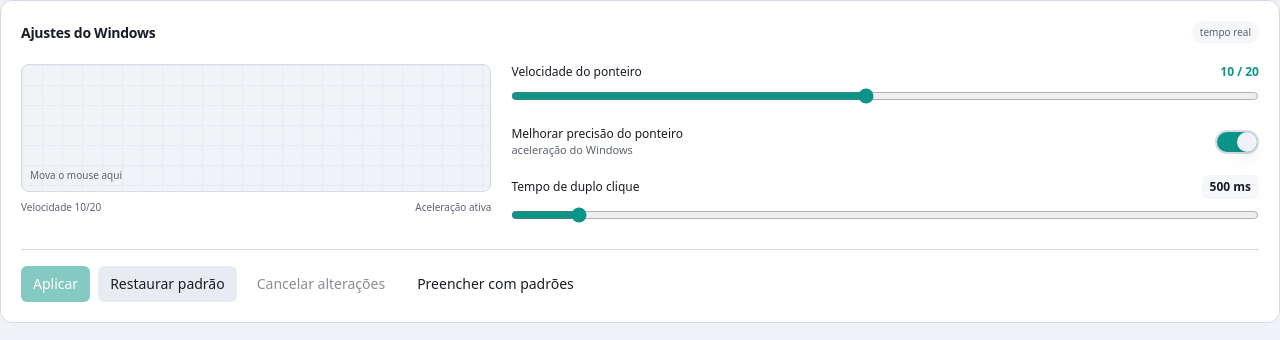
Scenario: MouseSettingsPanel — controles › descarta a alteração pendente ao clicar em Cancelar alterações
Set the slider labelled "Velocidade do ponteiro" to "18" at (1174, 96), box [511,88,1259,104]
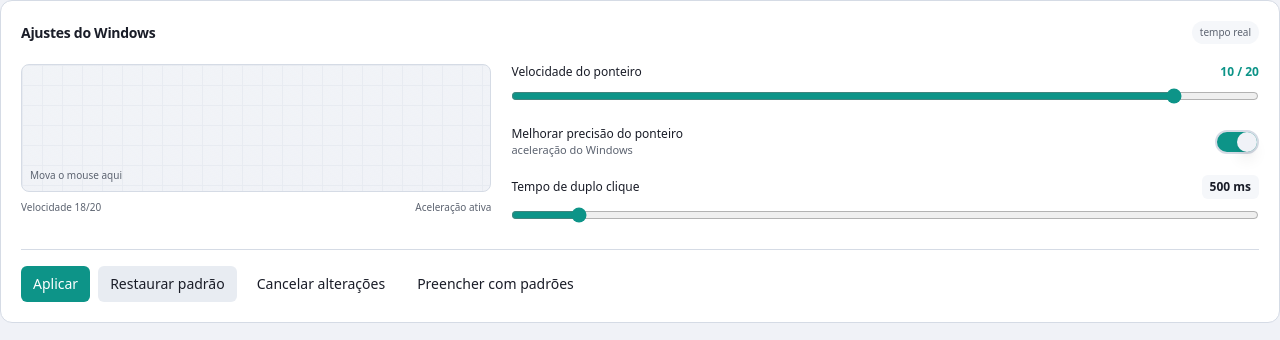
Click the button "Cancelar alterações".
click(321, 284)  # box [245,266,397,302]
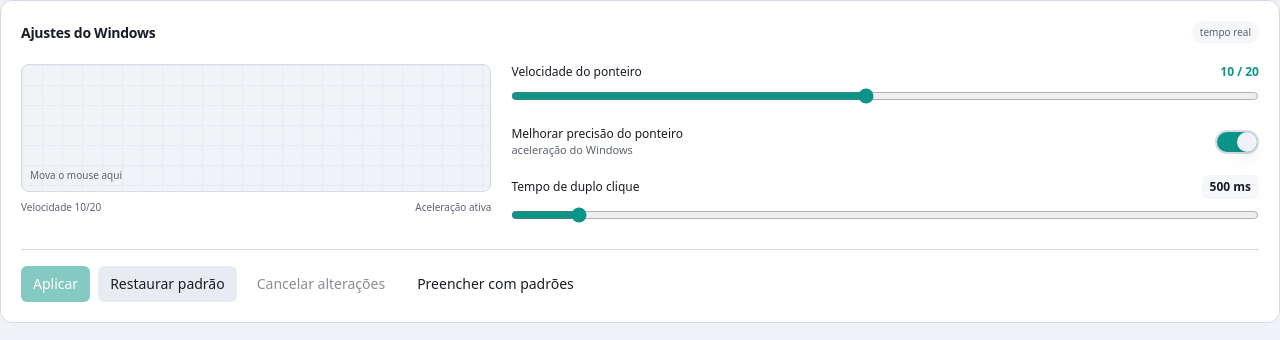
expect the slider labelled "Velocidade do ponteiro" holds "10": met, box [511,88,1259,104]
